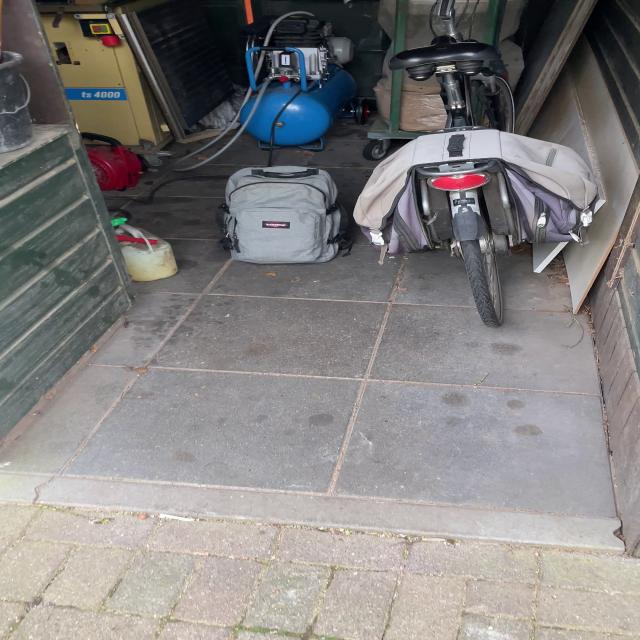backpack: (209, 161, 360, 269)
